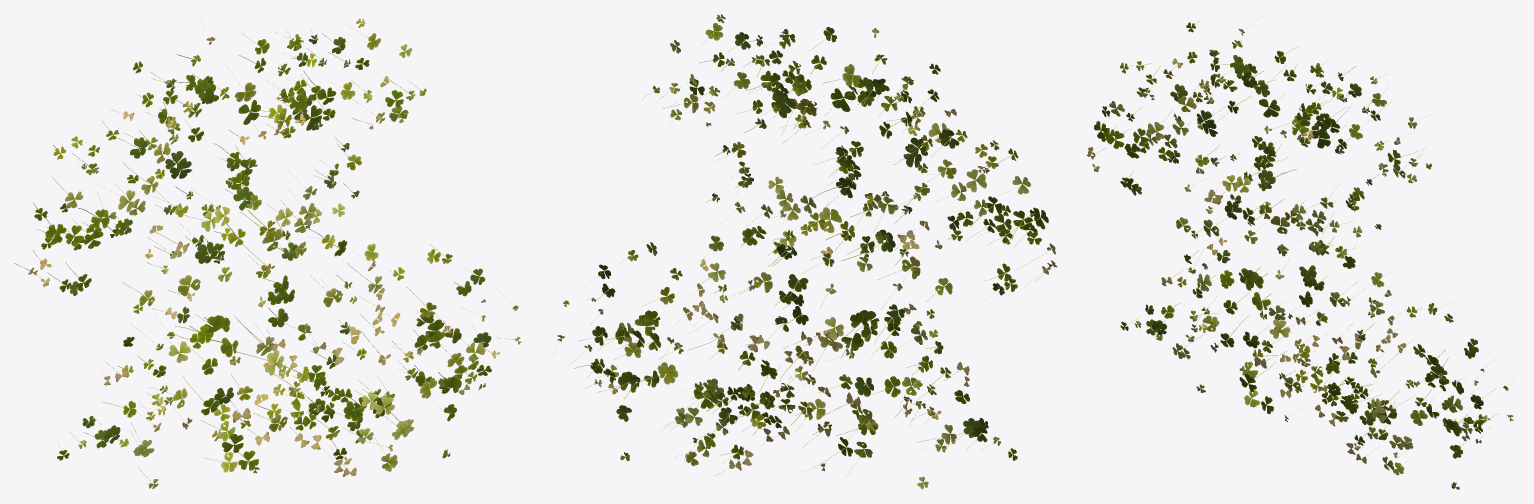
The model's file is Clovers_02_Var1_LOD0.fbx.
The picture shows the model from 3 angles, left to right: view 1: azimuth 30°, elevation 25°; view 2: azimuth 150°, elevation 25°; view 3: azimuth 330°, elevation 25°; orthographic projection. The views are drawn at different scales.
Visible parts, largest first — view 1: Var1_LOD0; view 2: Var1_LOD0; view 3: Var1_LOD0.
Boxes of the visible parts, box(x1,y1,x2,y2) form: Var1_LOD0: box(14, 17, 521, 489); Var1_LOD0: box(553, 14, 1057, 489); Var1_LOD0: box(1086, 14, 1518, 489).
Bounding box in the file's own units: 136 × 128 × 14.57.
